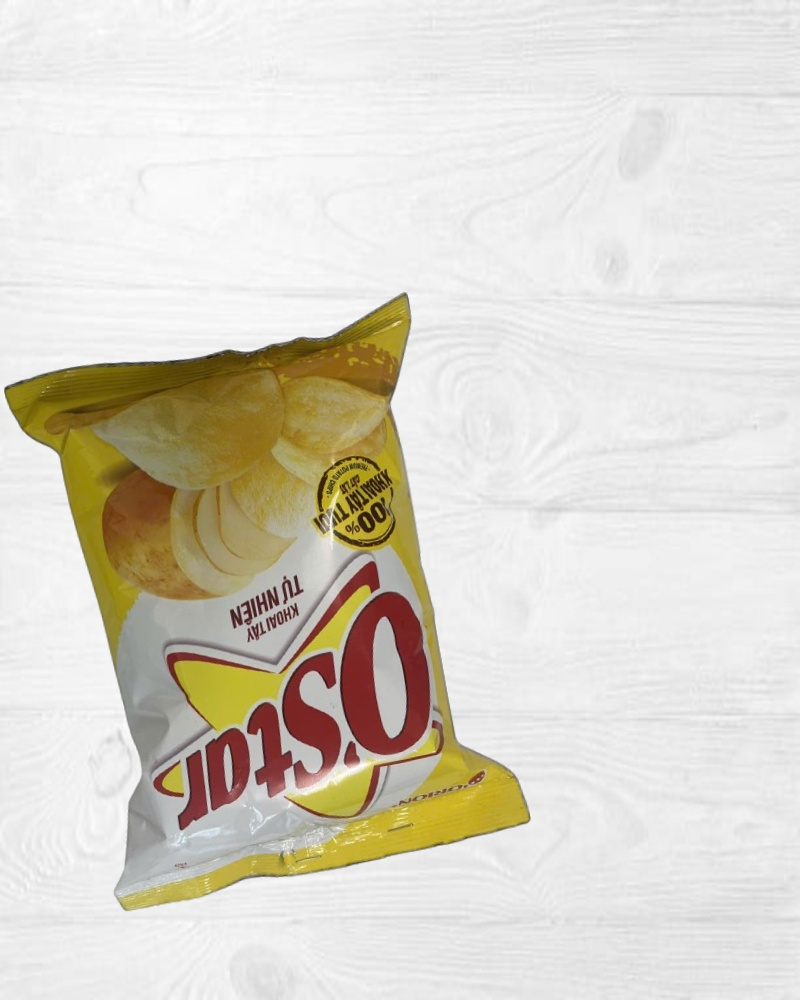Snack cua: (7, 294, 531, 909)
